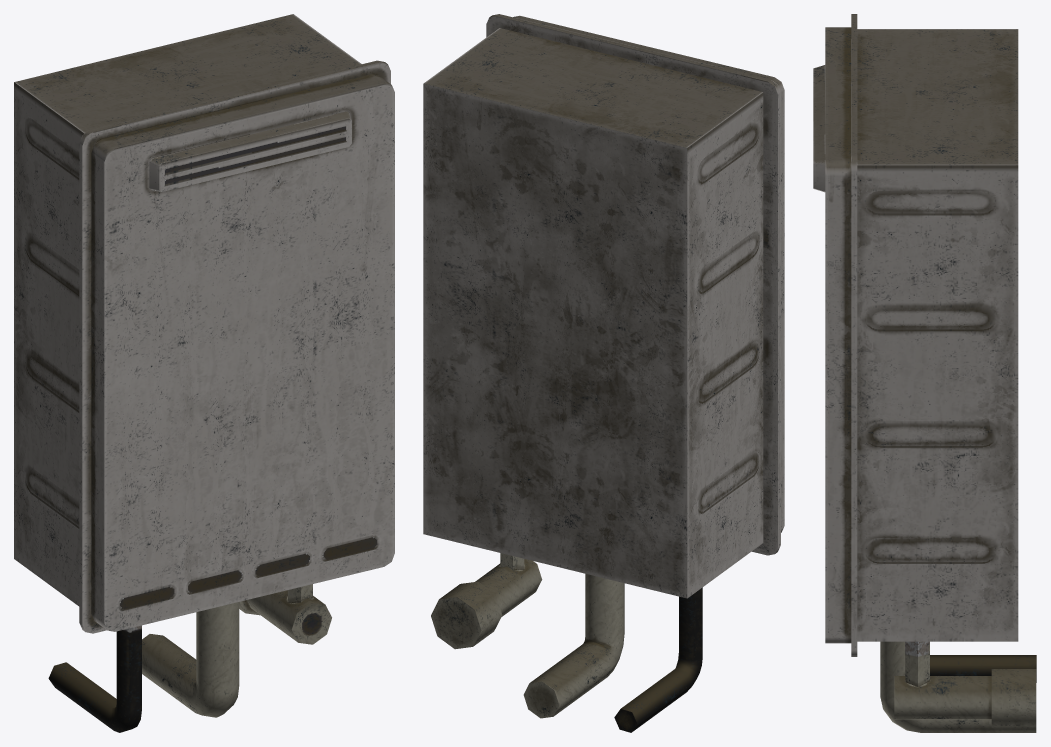
Rendered from WaterHeater_A.fbx.
3 views of the same model, side by side, from view 1: azimuth 30°, elevation 25°; view 2: azimuth 150°, elevation 25°; view 3: azimuth 270°, elevation 25° (orthographic). The views are drawn at different scales.
Visible parts, largest first — view 1: WaterHeater_A; view 2: WaterHeater_A; view 3: WaterHeater_A.
Part boxes in pixels (left/top/right/bottom): WaterHeater_A: left=14, top=14, right=394, bottom=732; WaterHeater_A: left=423, top=14, right=784, bottom=732; WaterHeater_A: left=813, top=14, right=1036, bottom=732.
Size of the model in its own units: 36.78 by 73.47 by 23.07.
Materials: 1 (1 with a texture image).
